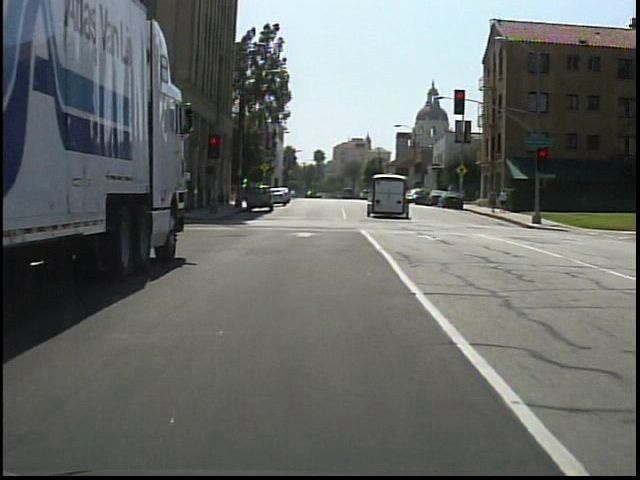person: (496, 187, 511, 215), (486, 186, 499, 216)
